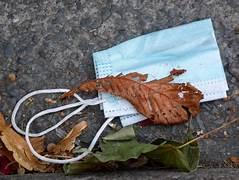Mask: (93, 19, 227, 100), (11, 89, 144, 163)
